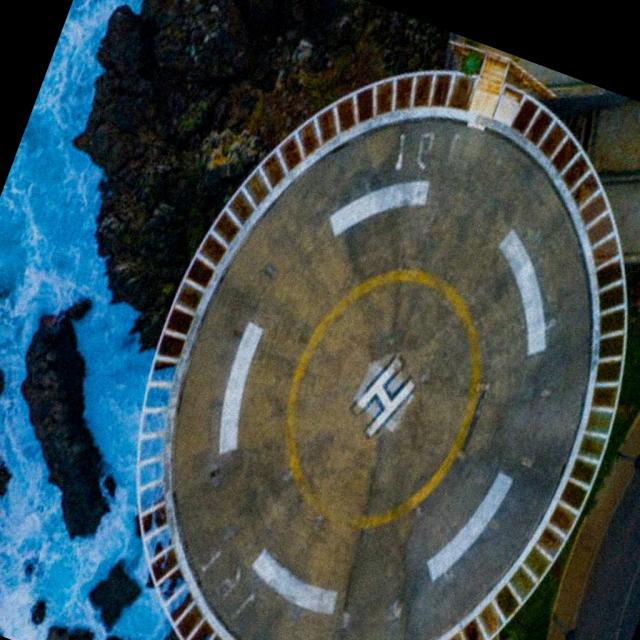helipad: (279, 267, 485, 537)
